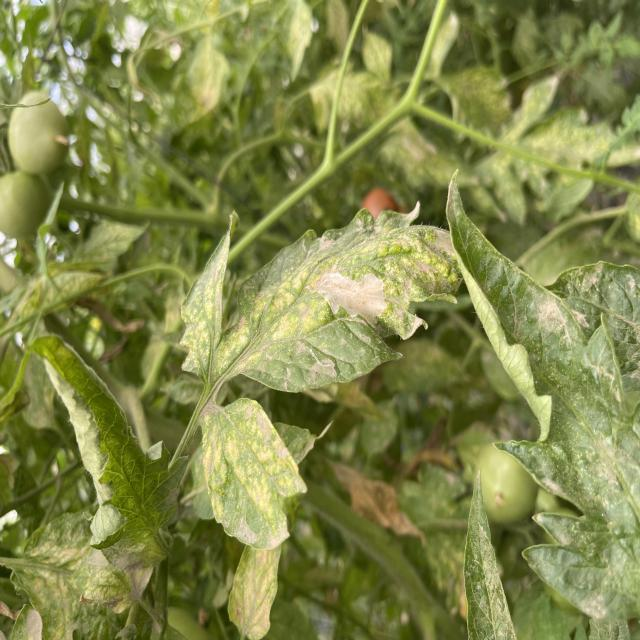Tuta absoluta: (300, 255, 397, 329)
